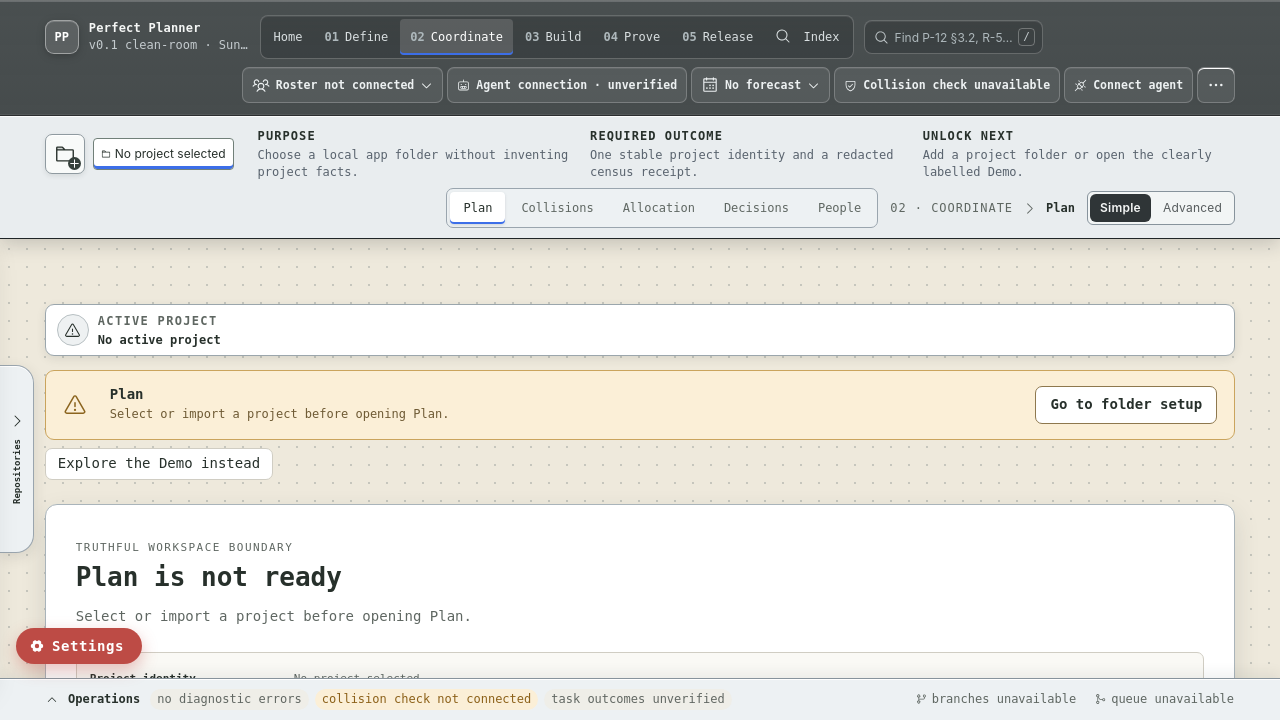
Test: Settings in the app shell › notices close after the chosen time, or stay until closed
This screenshot has width=1280, height=720.
Click the button named "More actions" at (1216, 85), box [1197,67,1235,103]
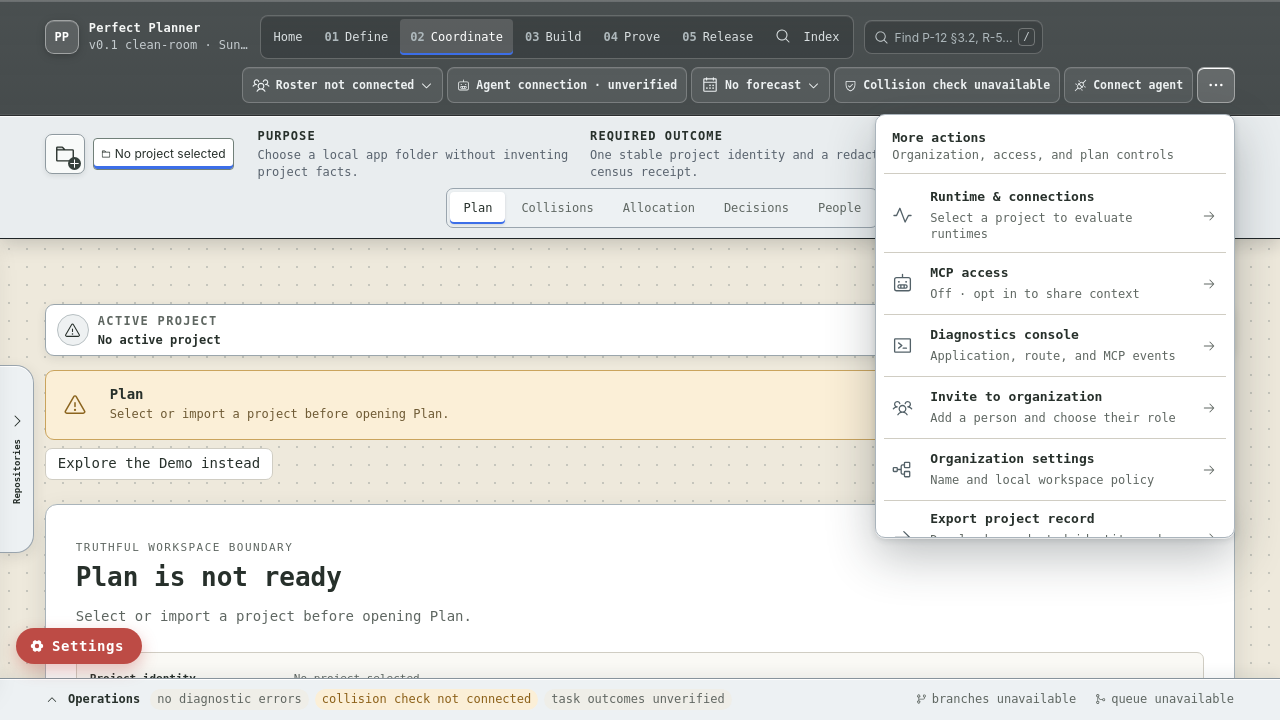
Click the button "Organization settings Name and local workspace policy" at (1055, 470), box [884,439,1226,501]
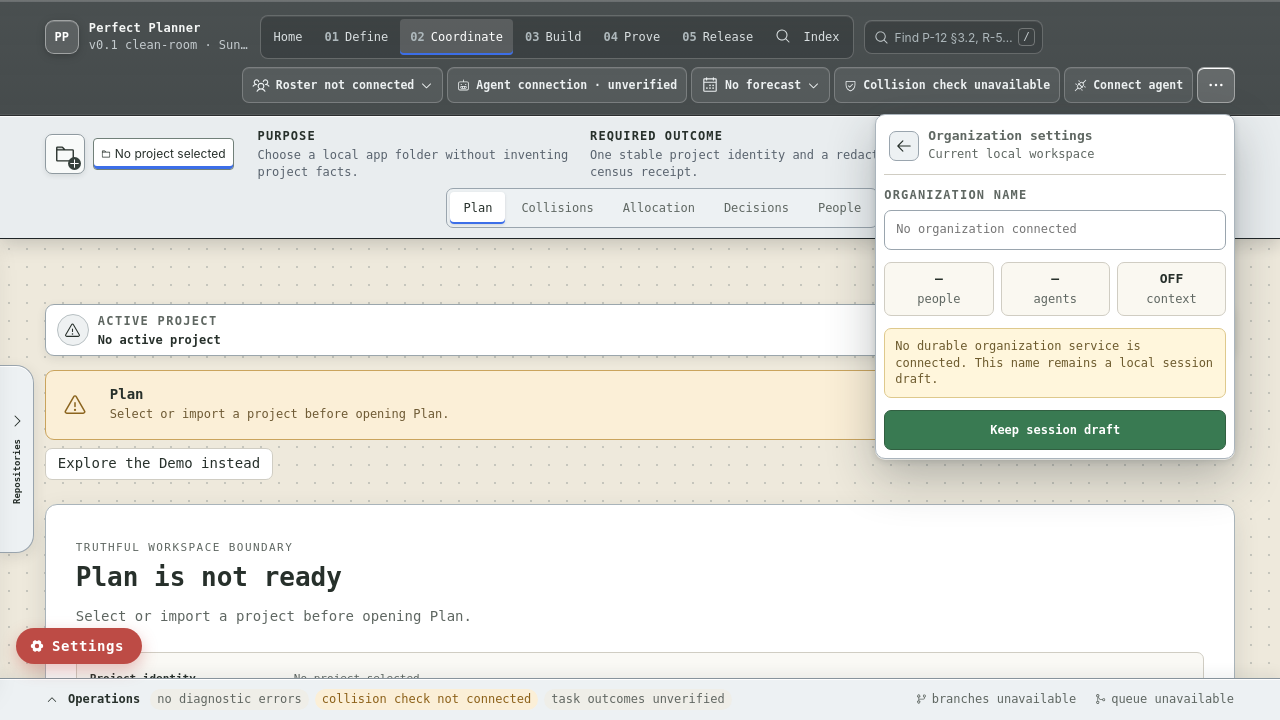
Click the button "Keep session draft" at (1055, 430), box [884,410,1226,450]
Wait 60000 ms
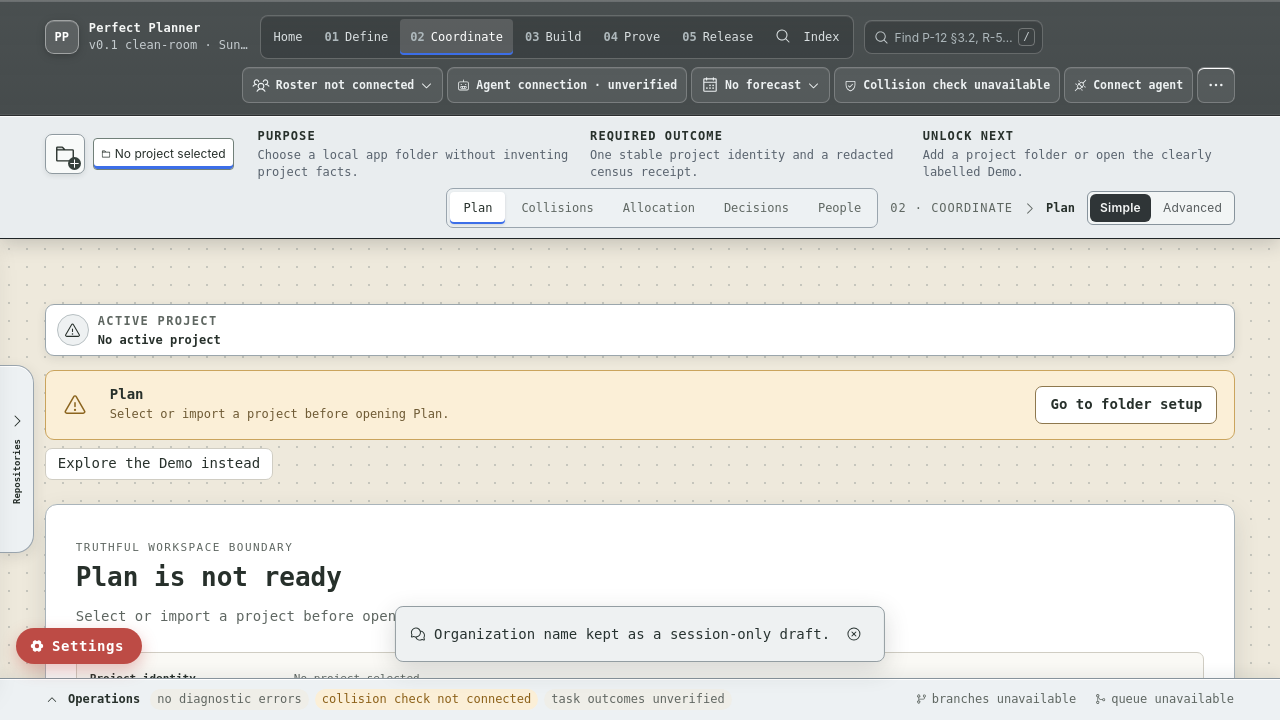
Result: the text "Organization name kept as a session-only draft." is shown at [434,624,830,644]
